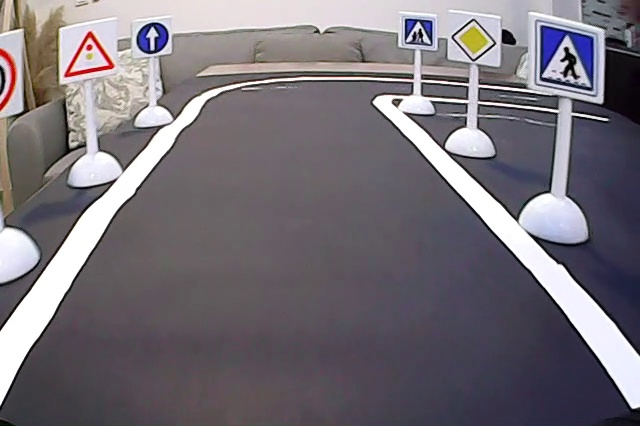pedestrian crossing: (534, 14, 602, 102)
red light: (62, 27, 119, 76)
school crossing: (401, 15, 435, 49)
